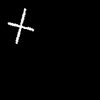single_crochet: (8, 9, 33, 43)
